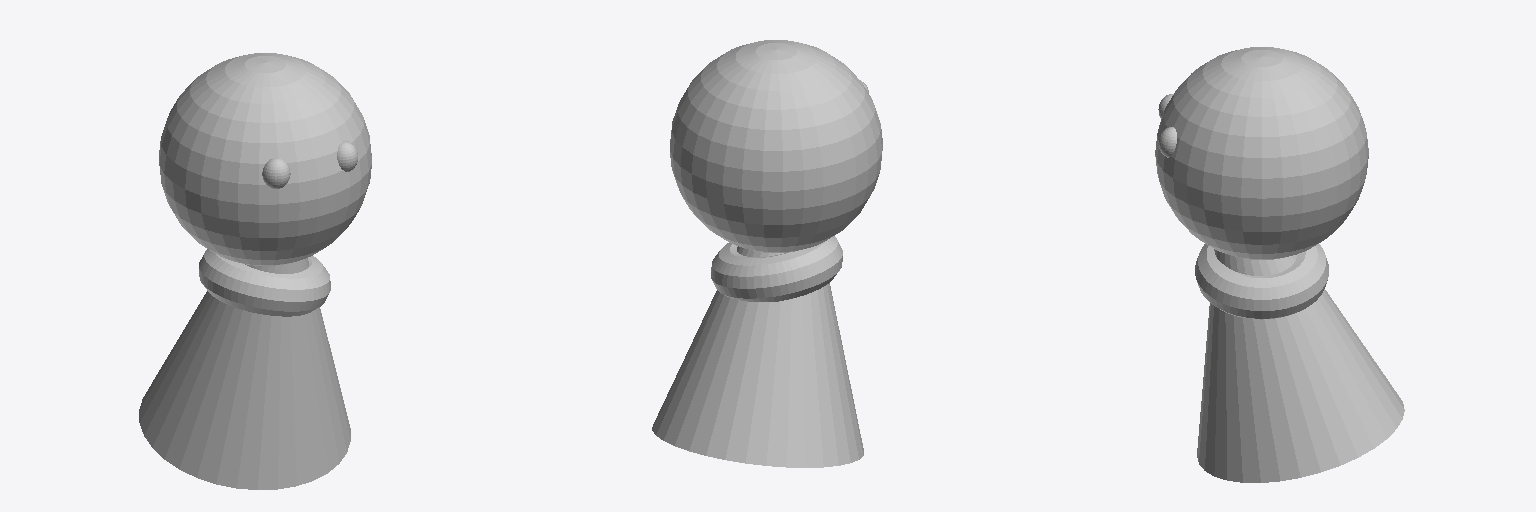
Rendered from teruteru.obj.
3 views of the same model, side by side, from view 1: azimuth 30°, elevation 25°; view 2: azimuth 150°, elevation 25°; view 3: azimuth 270°, elevation 25° (orthographic).
Parts seen in each view (by area): view 1: 头, 身体, 脖环, 右眼; view 2: 头, 身体, 脖环; view 3: 头, 身体, 脖环.
Part boxes in pixels (bbox=[...]): 头: bbox=[159, 53, 371, 265]; 身体: bbox=[139, 258, 350, 489]; 脖环: bbox=[199, 249, 330, 316]; 右眼: bbox=[262, 158, 290, 188]; 头: bbox=[670, 40, 882, 252]; 身体: bbox=[652, 246, 863, 467]; 脖环: bbox=[711, 236, 842, 301]; 头: bbox=[1155, 47, 1368, 259]; 身体: bbox=[1197, 249, 1404, 482]; 脖环: bbox=[1195, 244, 1328, 319].
Bounding box in the file's own units: 2.01 × 4.12 × 2.33.